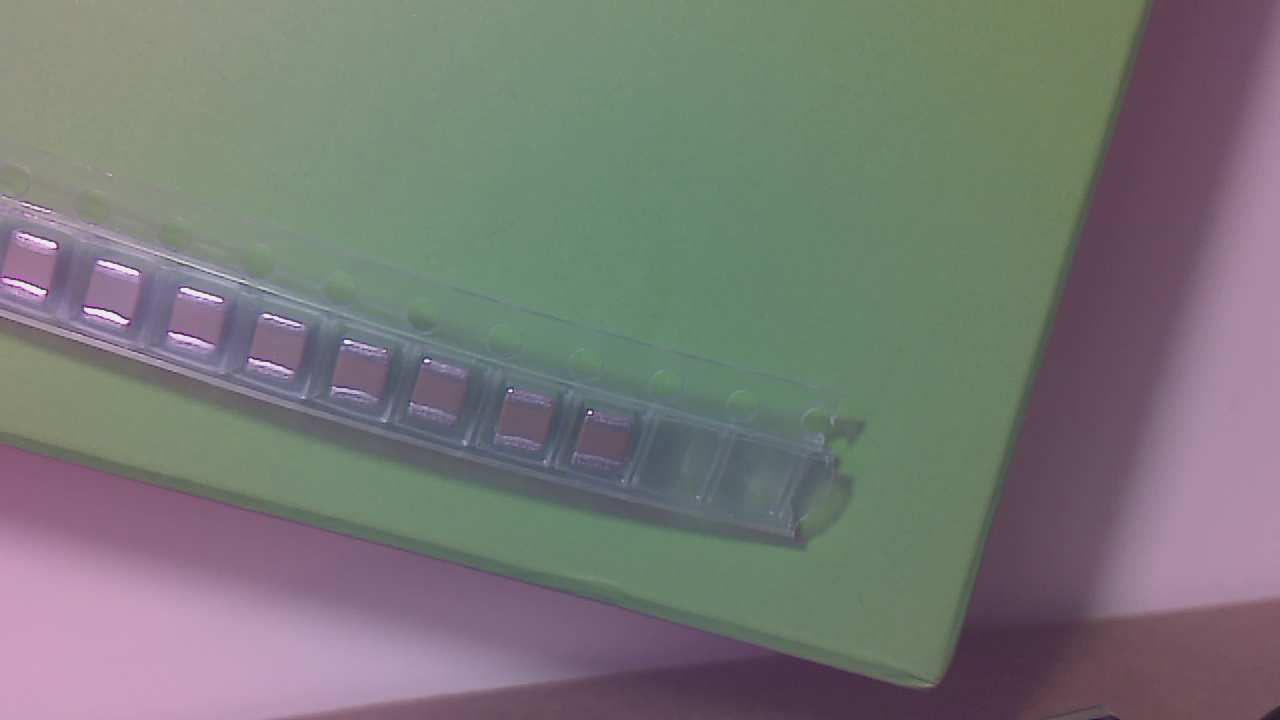Condensator: (498, 393, 564, 460), (172, 290, 238, 356), (86, 264, 151, 331), (8, 234, 67, 307), (576, 412, 642, 477), (253, 318, 317, 381), (415, 368, 478, 428), (337, 349, 401, 407)
